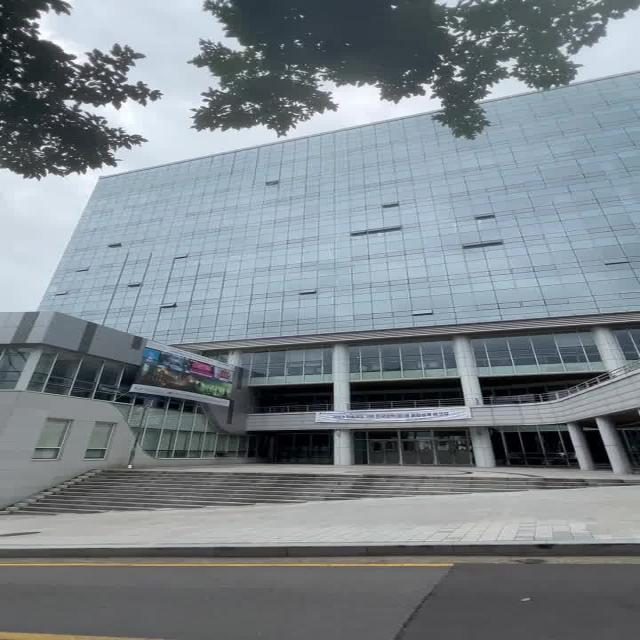building: (73, 145, 640, 446)
